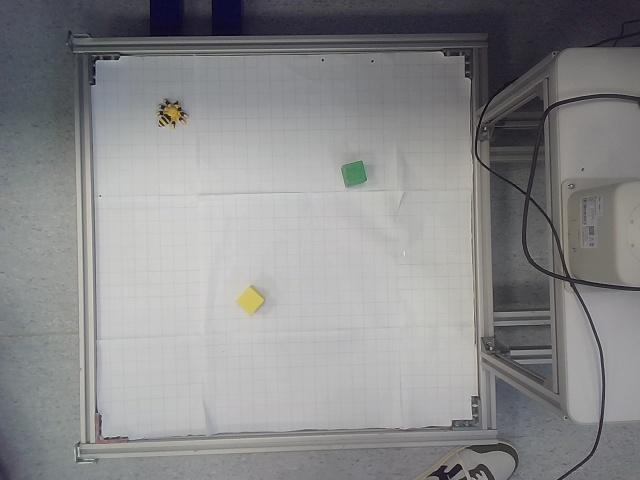frelon: (156, 98, 190, 130)
